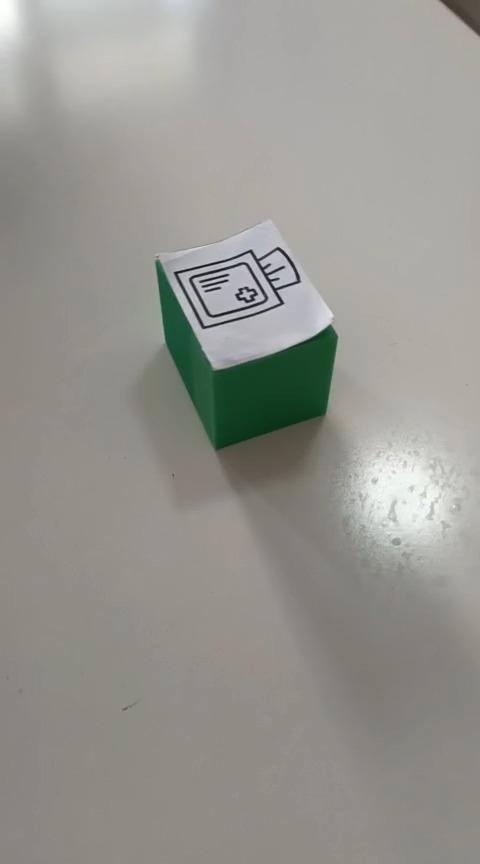Gauze: (153, 217, 338, 450)
